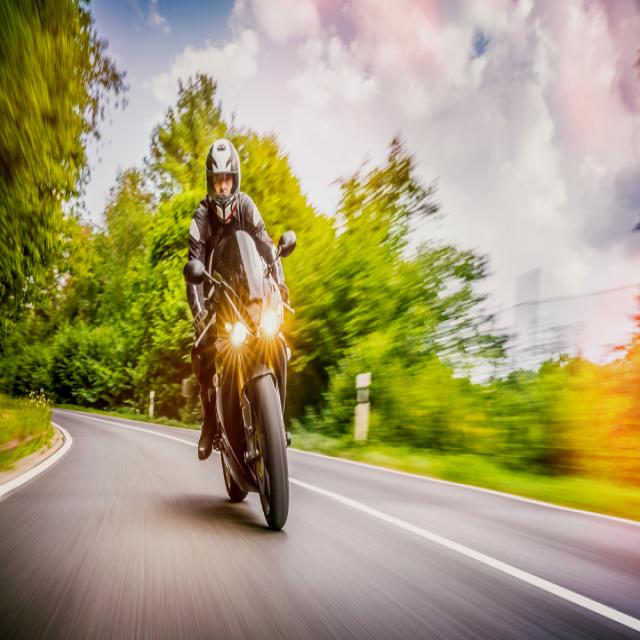MOTORCYCLE: (182, 225, 298, 530)
